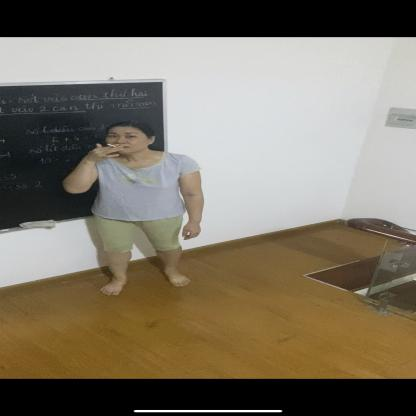cigarette: (106, 144, 117, 147)
person: (58, 113, 207, 297)
